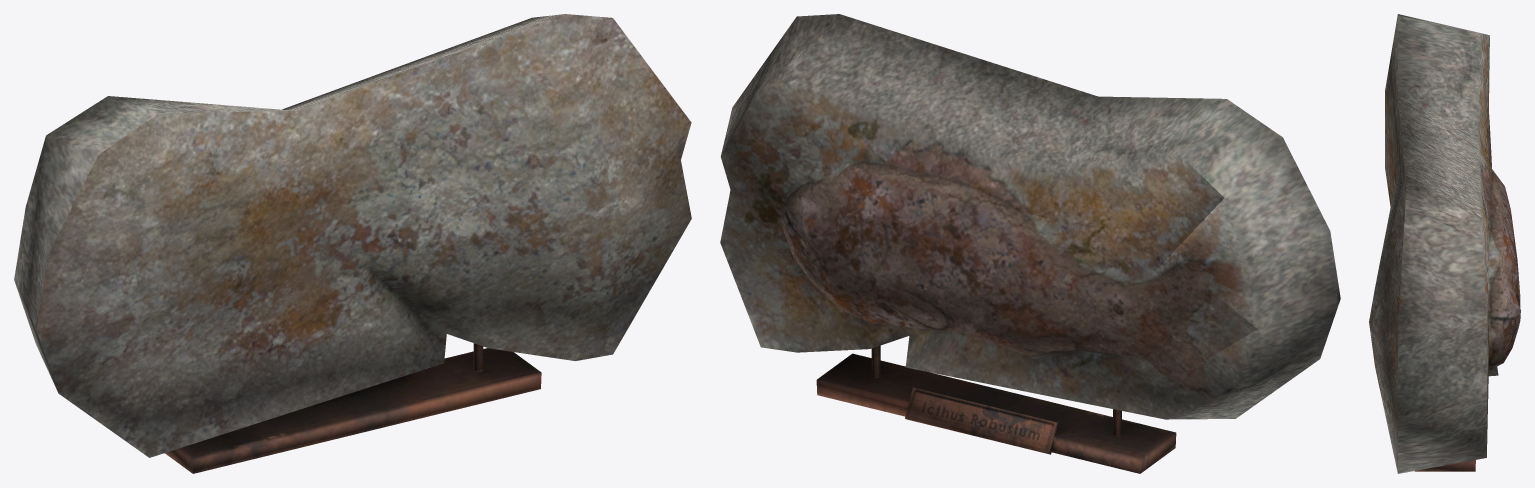
Rendered from fossil_fish.obj.
3 views of the same model, side by side, from view 1: azimuth 30°, elevation 25°; view 2: azimuth 150°, elevation 25°; view 3: azimuth 270°, elevation 25° (orthographic). The views are drawn at different scales.
Parts seen in each view (by area): view 1: fossil_fish; view 2: fossil_fish; view 3: fossil_fish.
Boxes of the visible parts, bbox=[...] form: fossil_fish: bbox=[14, 14, 691, 473]; fossil_fish: bbox=[720, 14, 1340, 473]; fossil_fish: bbox=[1369, 14, 1520, 473].
Bounding box in the file's own units: 157 × 86.77 × 39.49.
Materials: 1 (1 with a texture image).
